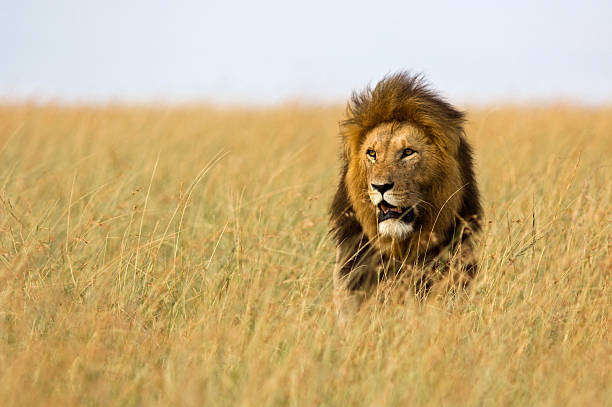lion: (318, 57, 488, 290)
